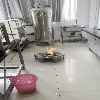fire: (45, 47, 55, 54)
